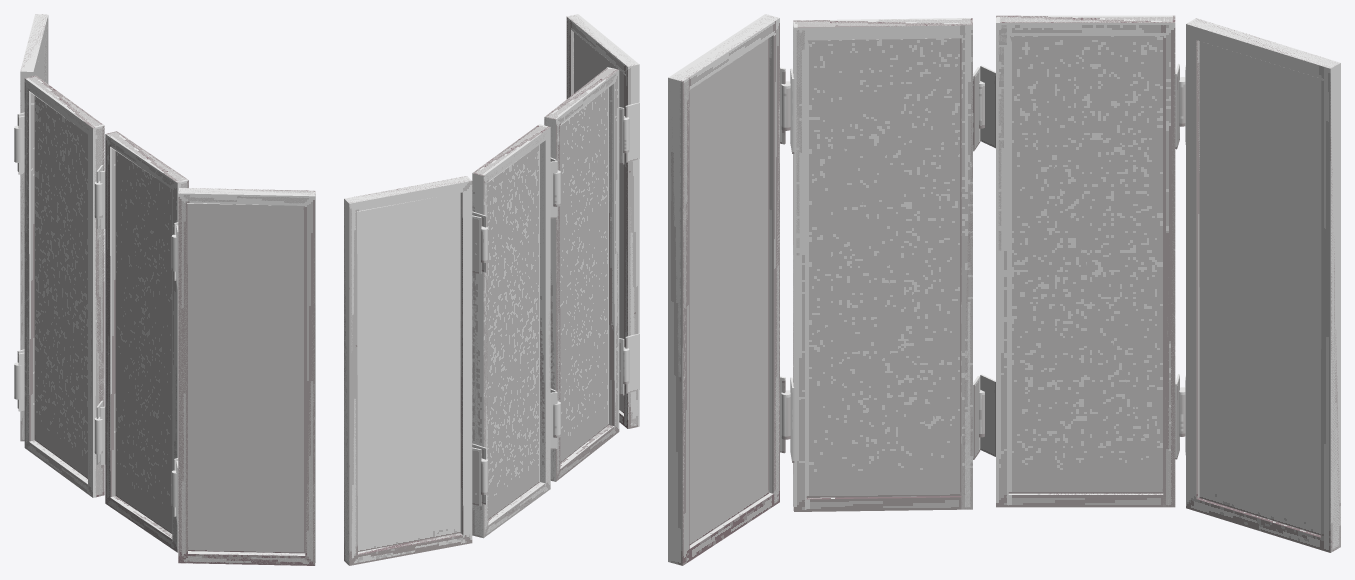
File: shoji.glb
The picture shows the model from 3 angles, left to right: view 1: azimuth 30°, elevation 25°; view 2: azimuth 150°, elevation 25°; view 3: azimuth 270°, elevation 25°; orthographic projection. The views are drawn at different scales.
Parts seen in each view (by area): view 1: mesh; view 2: mesh; view 3: mesh.
Boxes of the visible parts, <box> form: mesh: <box>14,14,315,565</box>; mesh: <box>344,14,639,565</box>; mesh: <box>668,14,1340,565</box>.
Size of the model in its own units: 0.5616 by 1.8 by 2.27.
1 material, 1 textured.
